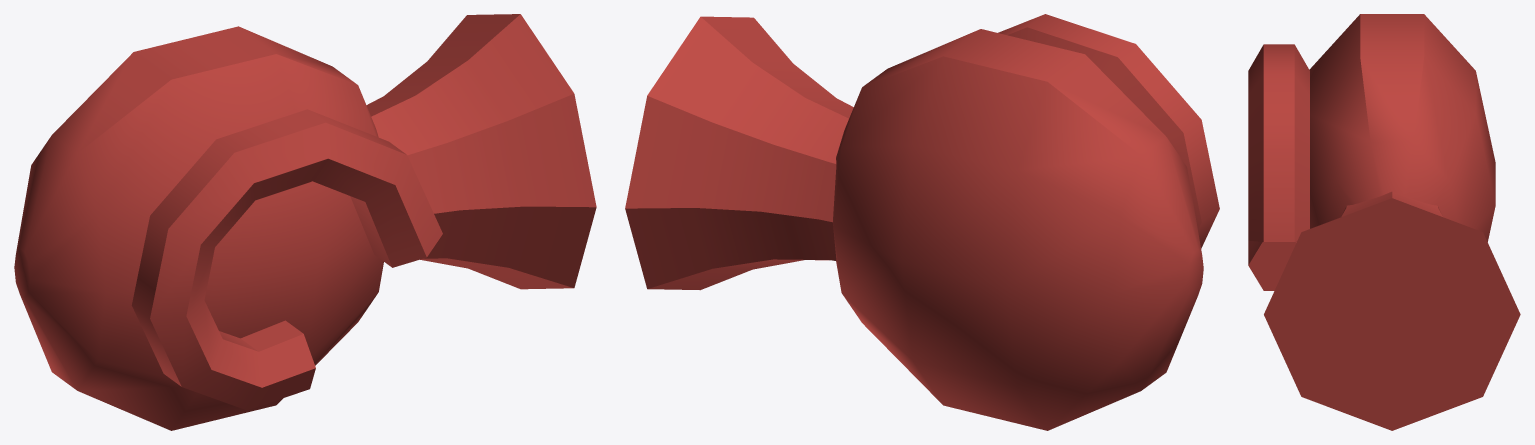
The model's file is snail_lod1.glb.
The picture shows the model from 3 angles, left to right: view 1: azimuth 30°, elevation 25°; view 2: azimuth 150°, elevation 25°; view 3: azimuth 270°, elevation 25°; orthographic projection. The views are drawn at different scales.
Parts seen in each view (by area): view 1: snail_lod1; view 2: snail_lod1; view 3: snail_lod1.
Boxes of the visible parts, x1,y1,x2,y2 form: snail_lod1: [14, 14, 596, 430]; snail_lod1: [625, 14, 1219, 430]; snail_lod1: [1248, 14, 1520, 430].
Size of the model in its own units: 0.0947 by 0.0638 by 0.053.
